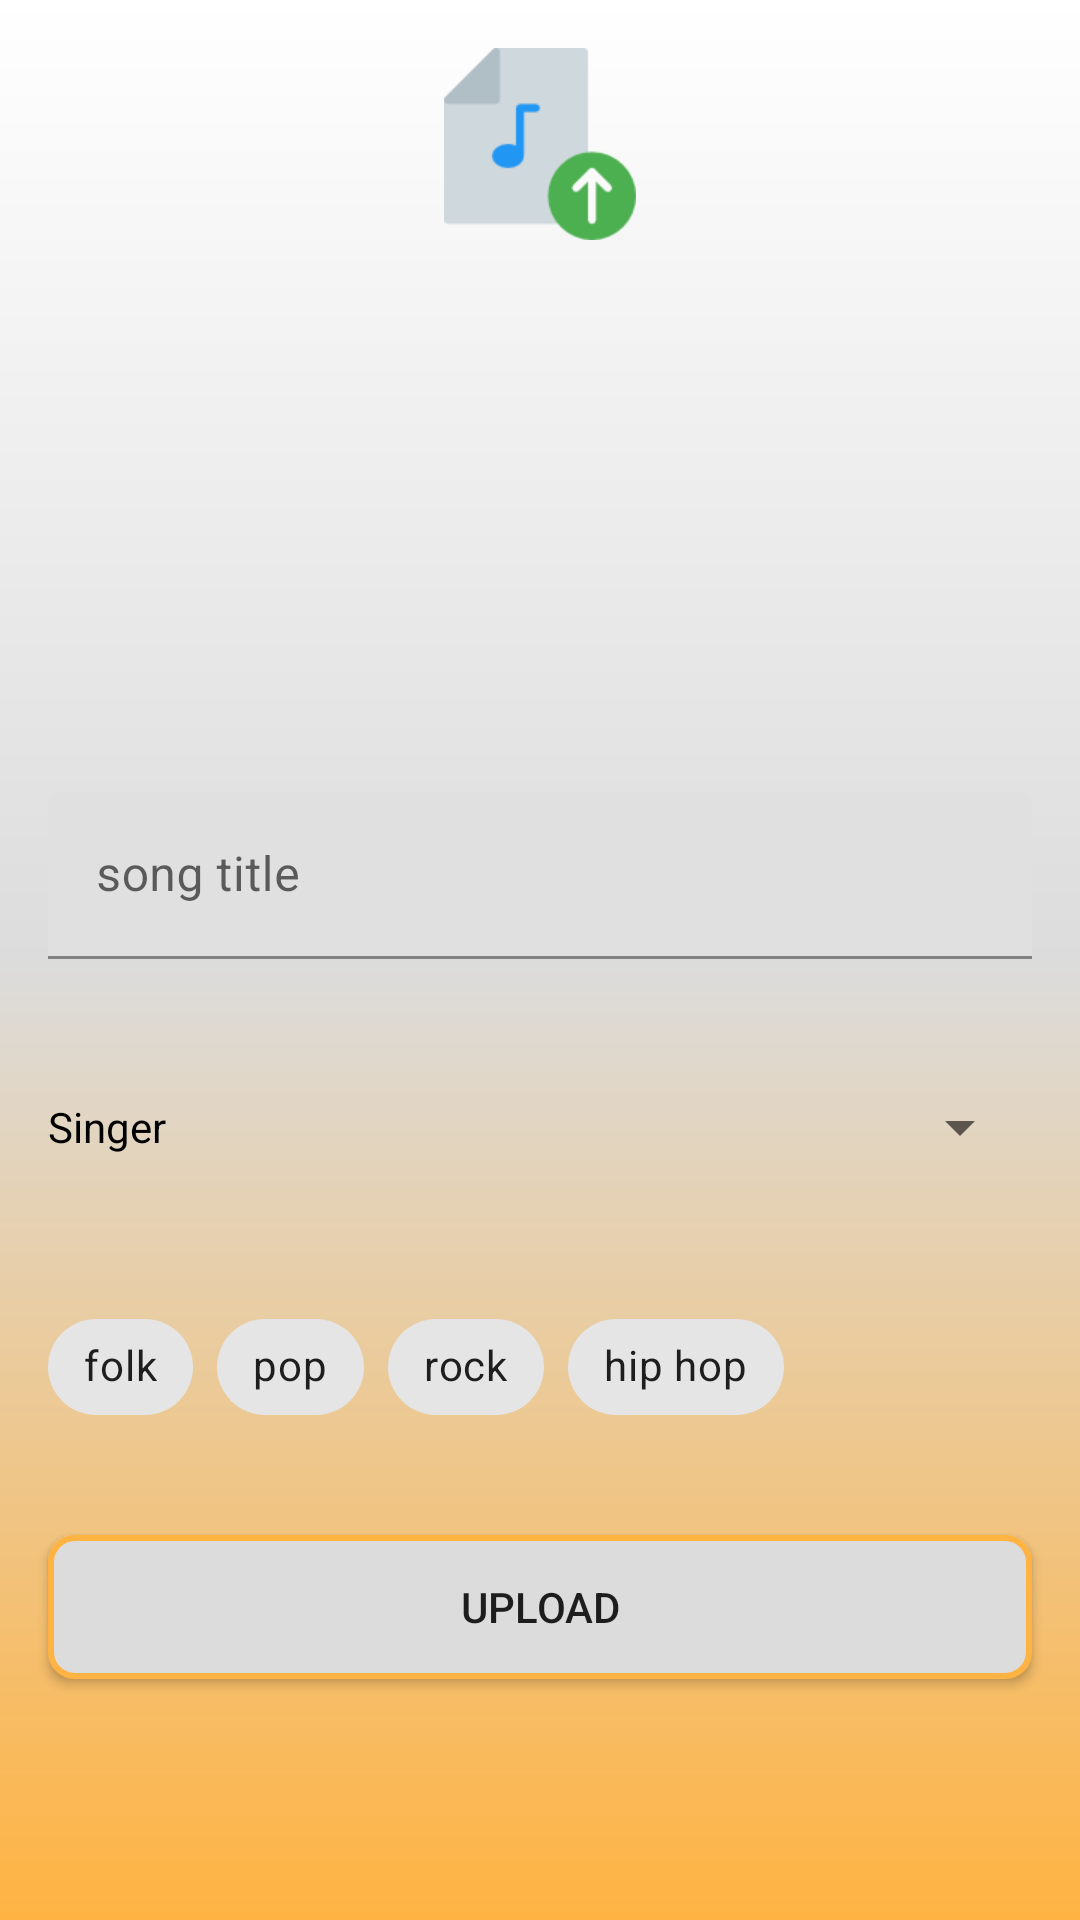

Icon click points for this 1080px x 1920px phone screenshot, format (x=x, y=y):
audio: (x=540, y=144)
